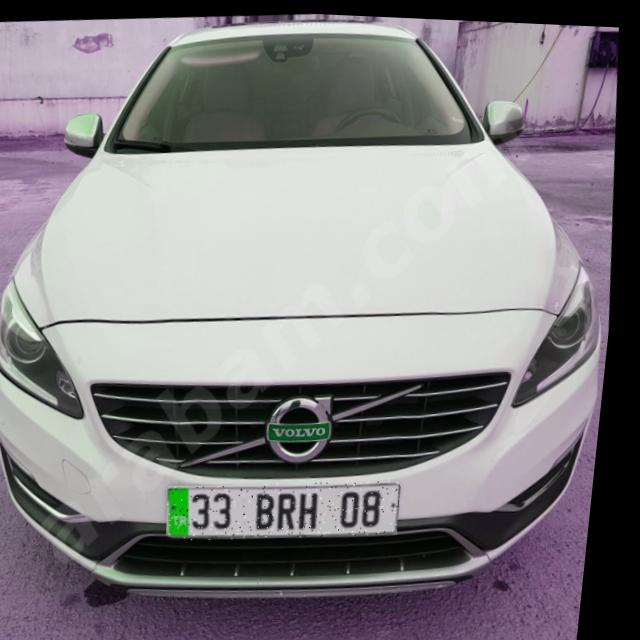license_plate: (174, 468, 413, 546)
